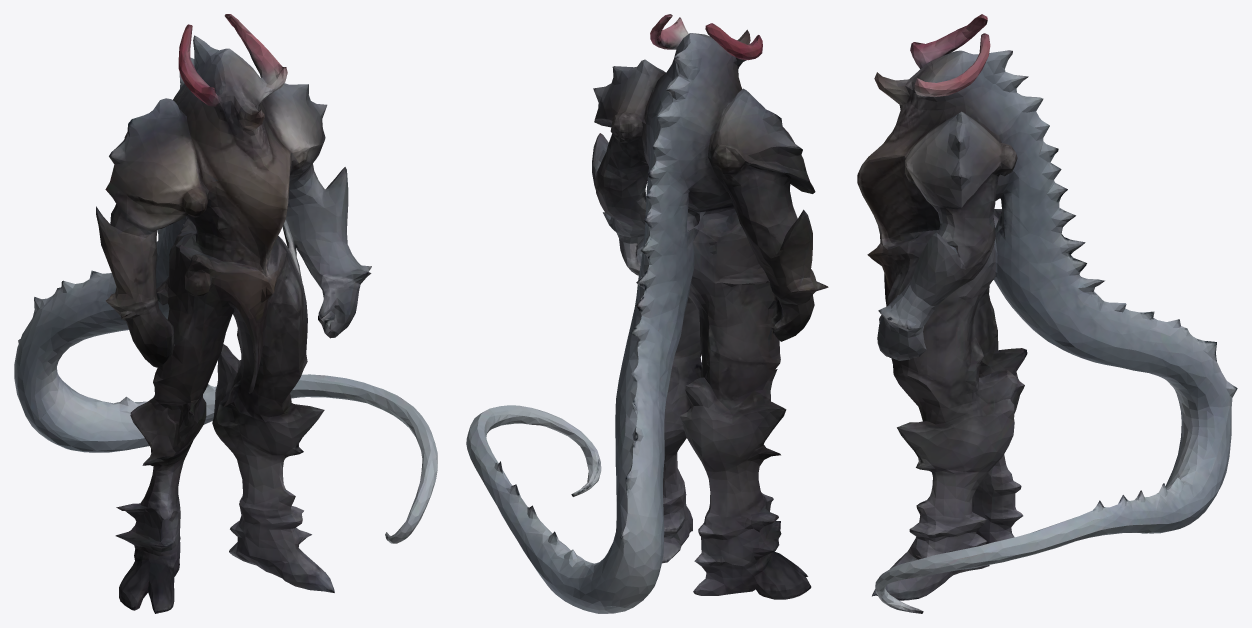
Rendered from ashscale-bulwark.glb.
3 renders of one model, left to right at view 1: azimuth 30°, elevation 25°; view 2: azimuth 150°, elevation 25°; view 3: azimuth 270°, elevation 25°, orthographic. The views are drawn at different scales.
Parts seen in each view (by area): view 1: MeshScale; view 2: MeshScale; view 3: MeshScale.
Part boxes in pixels (x1=…): MeshScale: x1=14, y1=14, x2=437, y2=613; MeshScale: x1=466, y1=14, x2=828, y2=613; MeshScale: x1=857, y1=14, x2=1237, y2=613.
Bounding box in the file's own units: 1.71 × 2.8 × 1.78.
Materials: 1 (1 with a texture image).
